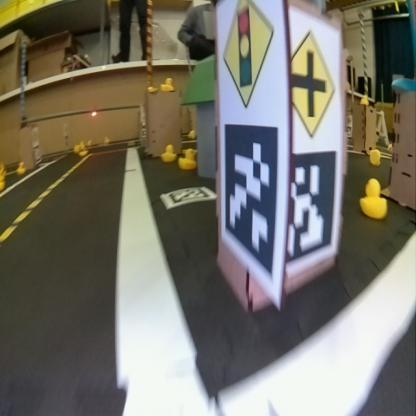Duckie: (359, 179, 385, 216), (177, 147, 195, 165), (161, 144, 176, 161), (370, 148, 380, 164), (161, 77, 173, 90), (79, 146, 85, 151)
Intersection sign: (292, 32, 334, 137)
QR code: (223, 124, 277, 275), (284, 149, 334, 263)
Signal sign: (224, 1, 272, 104)
